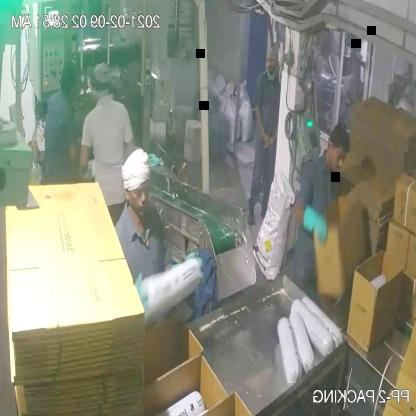glove: (296, 204, 333, 247)
no_glove: (254, 97, 270, 150)
